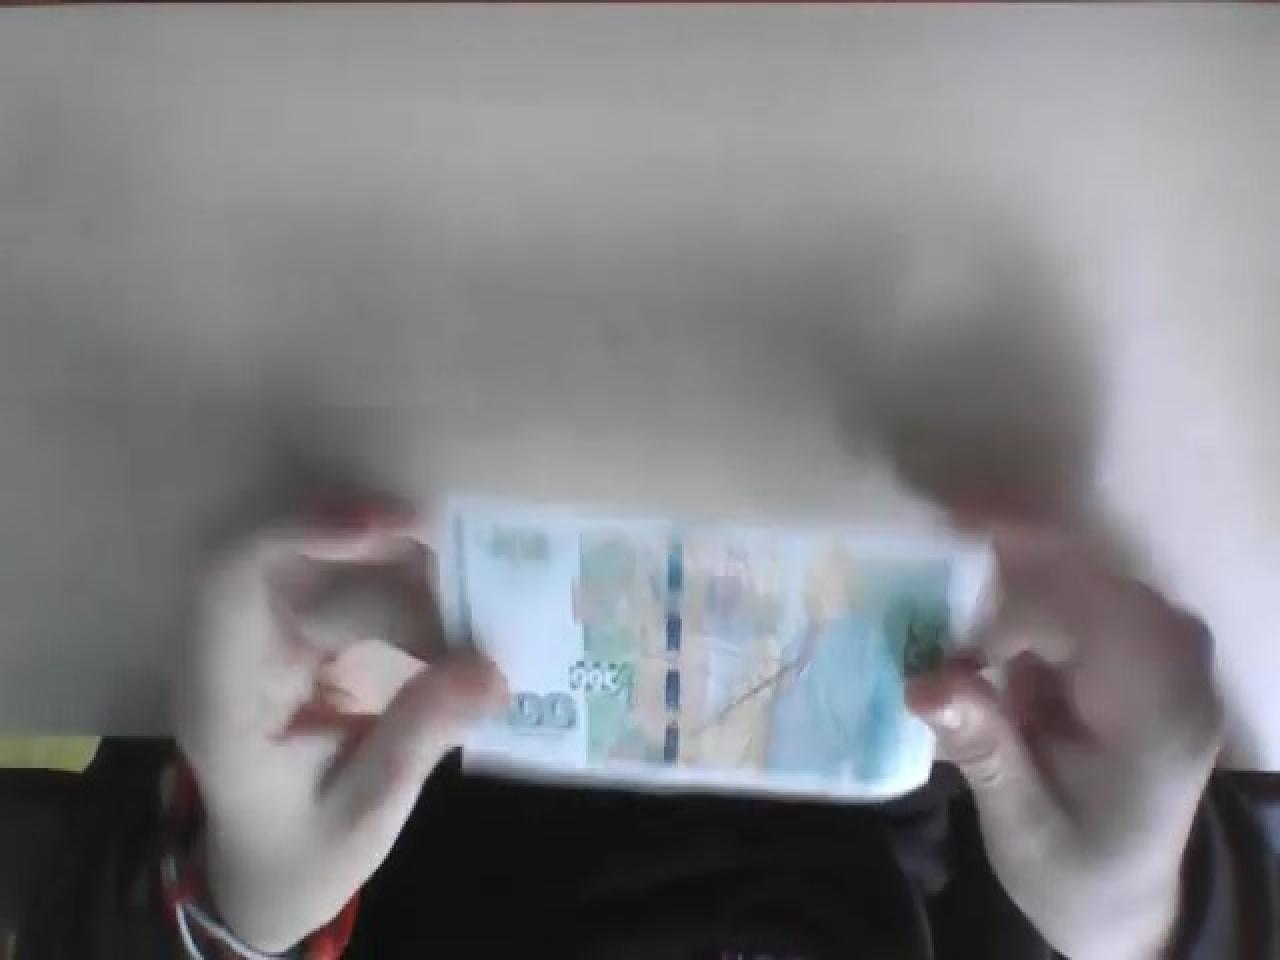100leva: (438, 499, 1002, 809)
